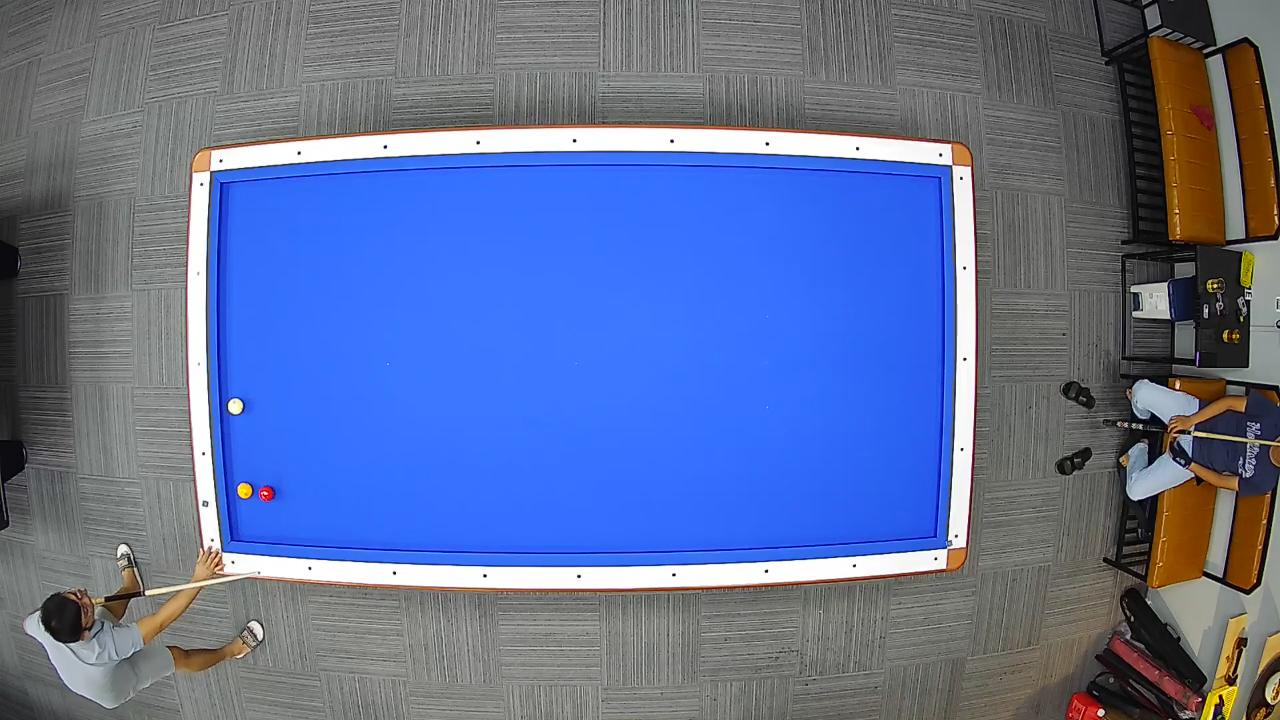Red: (257, 485, 275, 503)
White: (225, 397, 245, 417)
Yellow: (236, 481, 253, 501)
